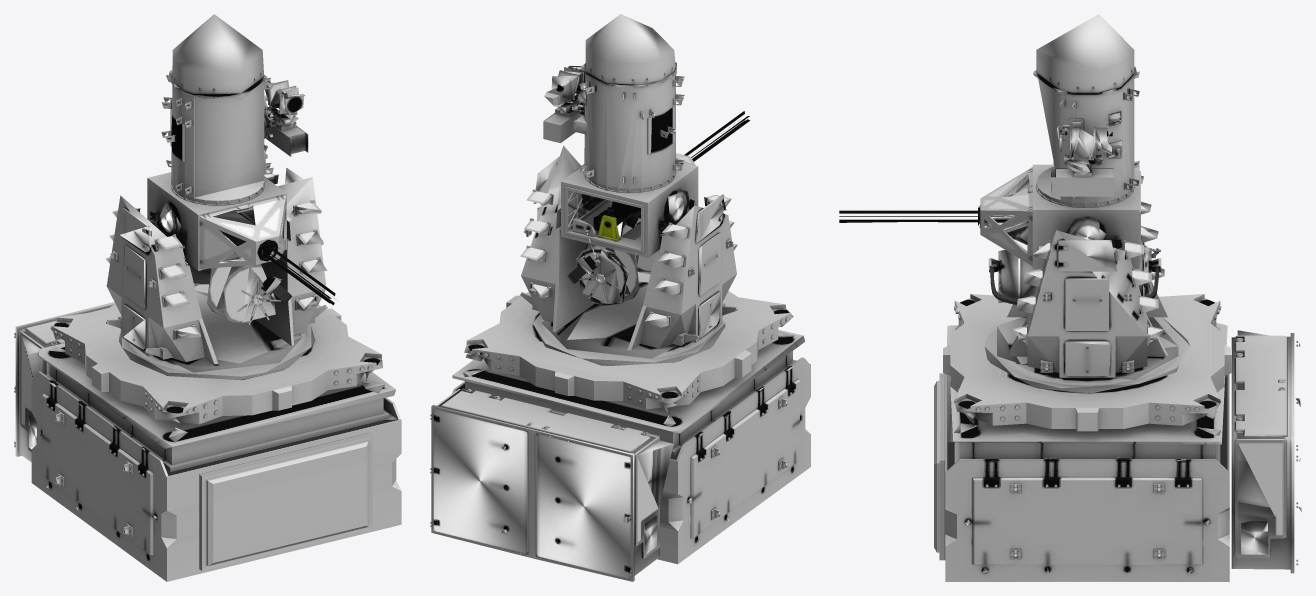
The model's file is gun_aa.glb.
The picture shows the model from 3 angles, left to right: view 1: azimuth 30°, elevation 25°; view 2: azimuth 150°, elevation 25°; view 3: azimuth 270°, elevation 25°; orthographic projection. The views are drawn at different scales.
Parts seen in each view (by area): view 1: object 1, PITCH_0 (×3); view 2: object 1, PITCH_0 (×4); view 3: object 1, PITCH_0 (×3).
Part boxes in pixels (box(x1,y1,x2,y2)): object 1: box(14, 168, 401, 581); PITCH_0 (×3): box(147, 14, 335, 324); object 1: box(430, 145, 810, 581); PITCH_0 (×4): box(543, 14, 749, 305); object 1: box(934, 162, 1301, 581); PITCH_0 (×3): box(839, 14, 1161, 303).
Size of the model in its own units: 1.97 by 3.59 by 2.95.
Materials: 3 (3 with a texture image).
